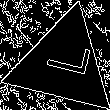L_W: (35, 43, 91, 85)
